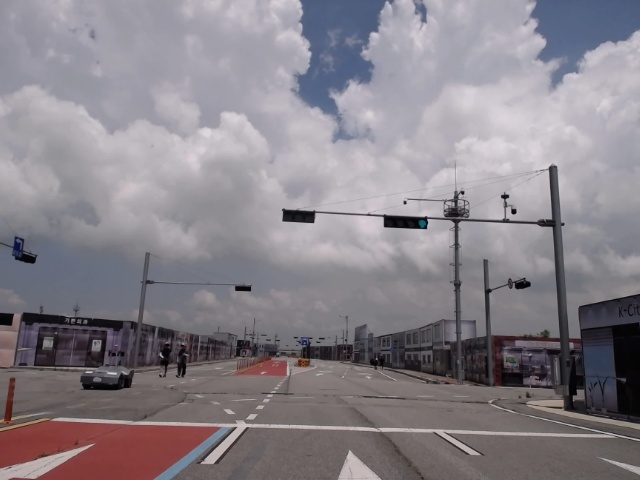straight_green_4: (385, 215, 429, 229)
